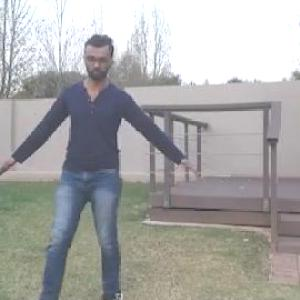land: (24, 51, 166, 296)
